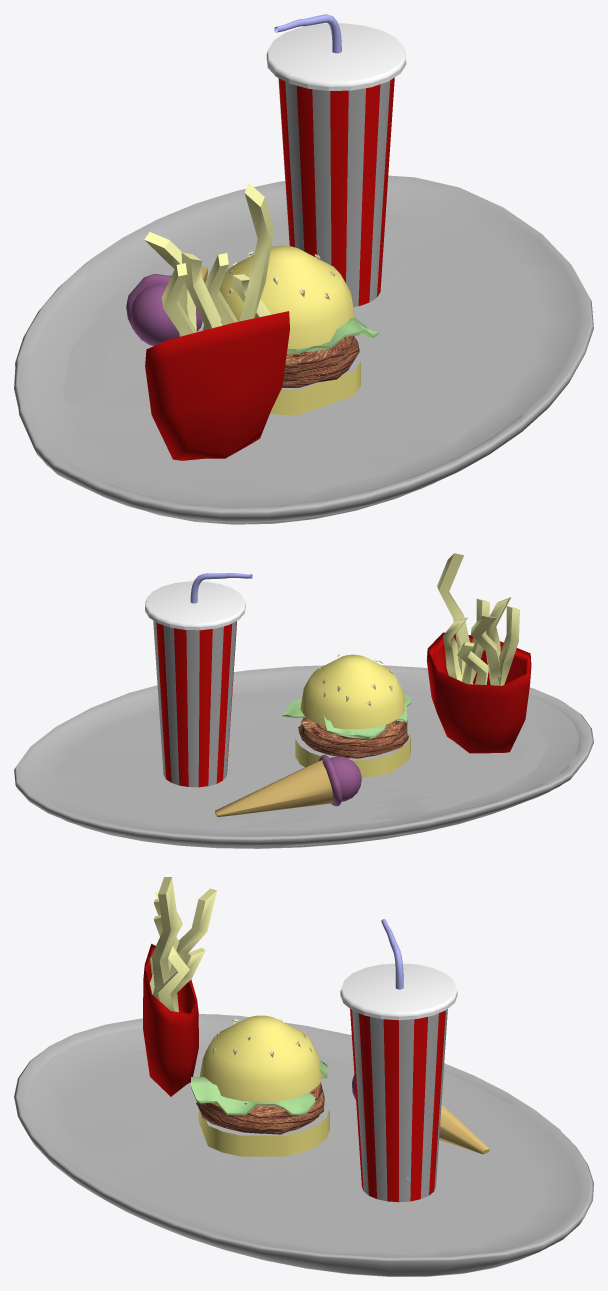
File: combo-1.glb
3 views of the same model, one above another, from view 1: azimuth 30°, elevation 25°; view 2: azimuth 150°, elevation 25°; view 3: azimuth 270°, elevation 25° (orthographic). The views are drawn at different scales.
Parts seen in each view (by area): view 1: pCylinder6, pCylinder7, pCylinder4, pCube3, polySurface15, polySurface13, polySurface14, pCube4, pSphere3, pCube6, pCube5, pCube9 (+4 smaller); view 2: pCylinder6, pCylinder7, pCylinder4, pCube3, polySurface15, pCylinder8, polySurface13, polySurface14, pCube4, polySurface12, pCube5, pCube9 (+7 smaller); view 3: pCylinder6, pCylinder7, pCylinder4, polySurface15, pCube3, polySurface14, polySurface13, polySurface12, pCube4, pCube9, pCylinder8, pCube10 (+2 smaller).
Part boxes in pixels (x1,y1,x2,y2): pCylinder6: (15,176,589,523); pCylinder7: (14,175,593,524); pCylinder4: (266,23,406,307); pCube3: (145,311,289,460); polySurface15: (219,245,354,348); polySurface13: (282,335,359,387); polySurface14: (270,352,360,415); pCube4: (239,183,273,321); pSphere3: (130,284,179,345); pCube6: (181,252,221,330); pCube5: (162,263,196,335); pCube9: (144,232,196,336); pCylinder6: (17,665,593,846); pCylinder7: (14,665,589,848); pCylinder4: (145,581,245,787); pCube3: (426,632,531,753); polySurface15: (300,654,404,729); pCylinder8: (215,760,333,816); polySurface13: (298,718,408,758); polySurface14: (295,729,410,778); pCube4: (437,553,473,684); polySurface12: (282,693,410,739); pCube5: (498,606,519,685); pCube9: (471,615,501,680); pCylinder6: (14,1014,589,1257); pCylinder7: (18,1014,593,1276); pCylinder4: (340,963,457,1202); polySurface15: (199,1015,322,1102); pCube3: (143,944,198,1096); polySurface14: (198,1098,329,1156); polySurface13: (196,1082,324,1134); polySurface12: (191,1060,327,1114); pCube4: (151,877,178,999); pCube9: (169,888,216,977); pCylinder8: (439,1104,489,1154); pCube10: (157,946,189,1011).
Size of the model in its own units: 41.71 by 19.89 by 41.48.
16 materials, 1 textured.
